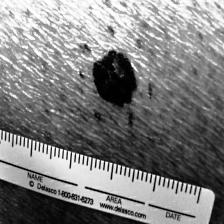Benign Marking or Mole: (92, 48, 140, 110)
